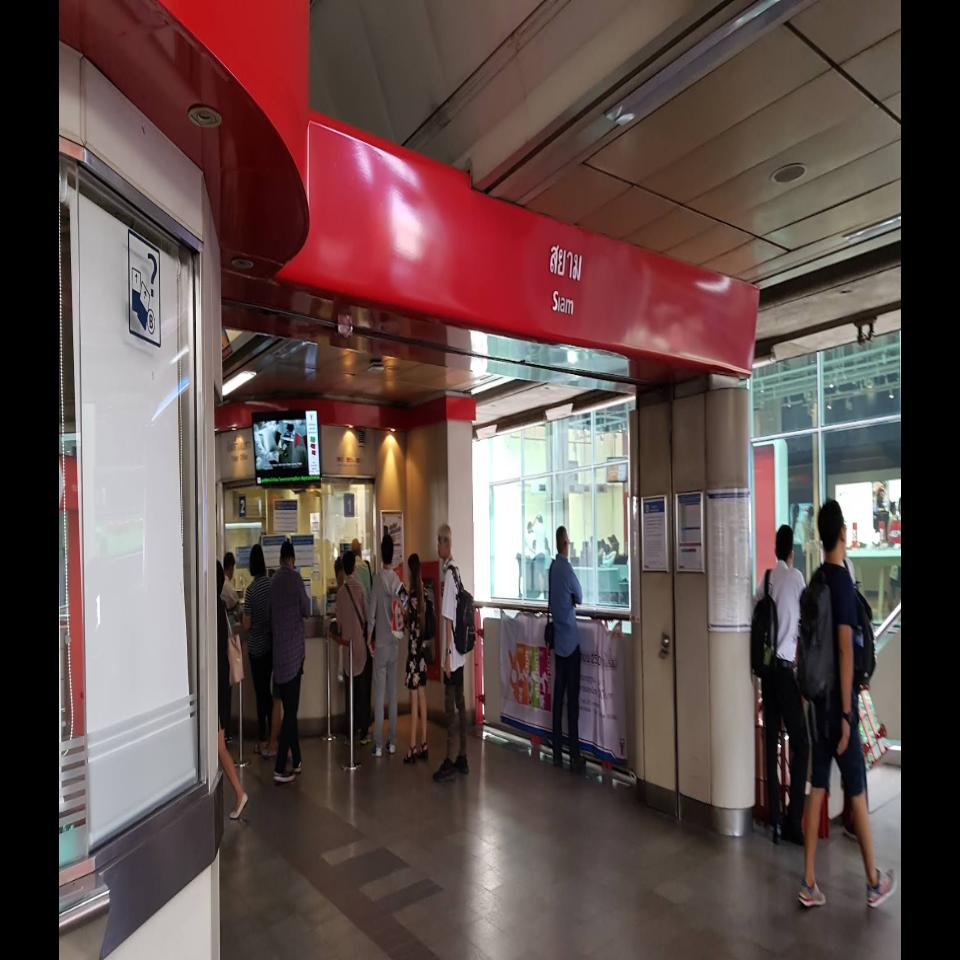Siam: (549, 242, 584, 317)
